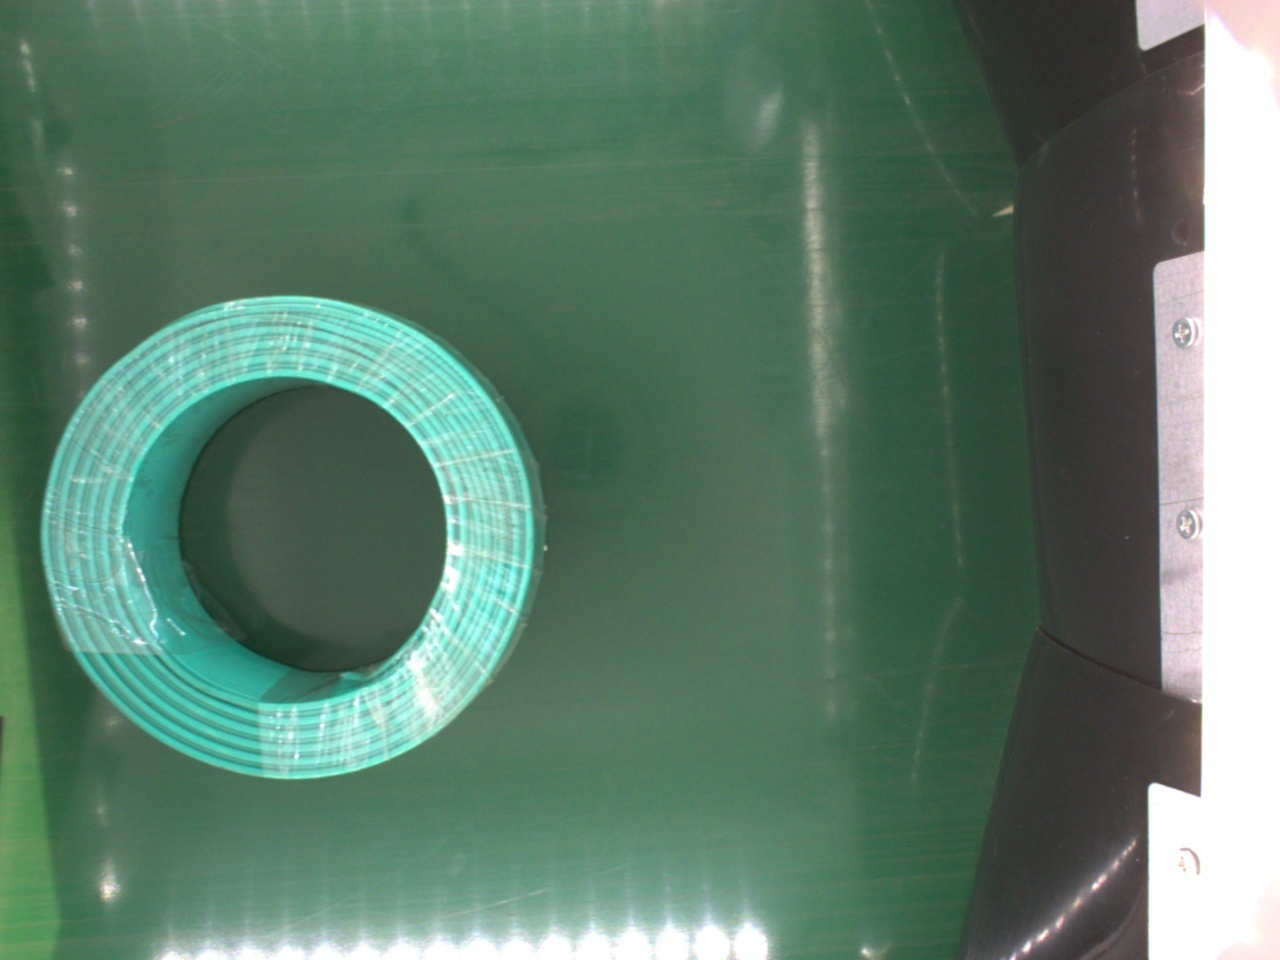green: (39, 288, 540, 782)
